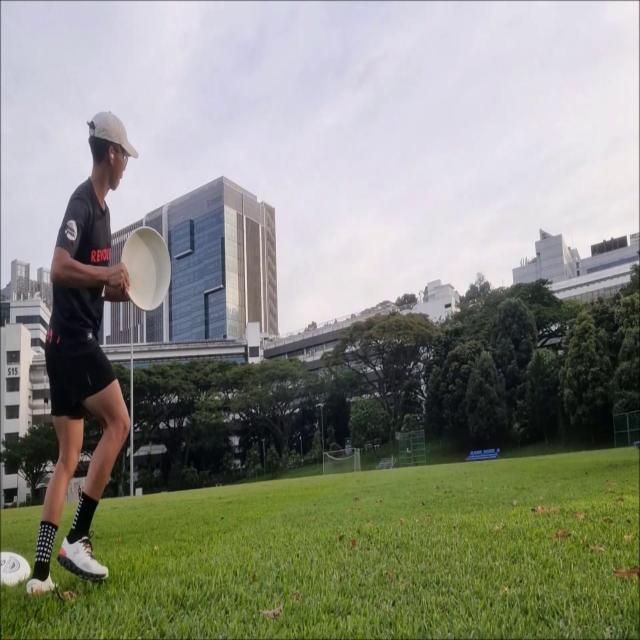disc: (119, 225, 173, 313)
